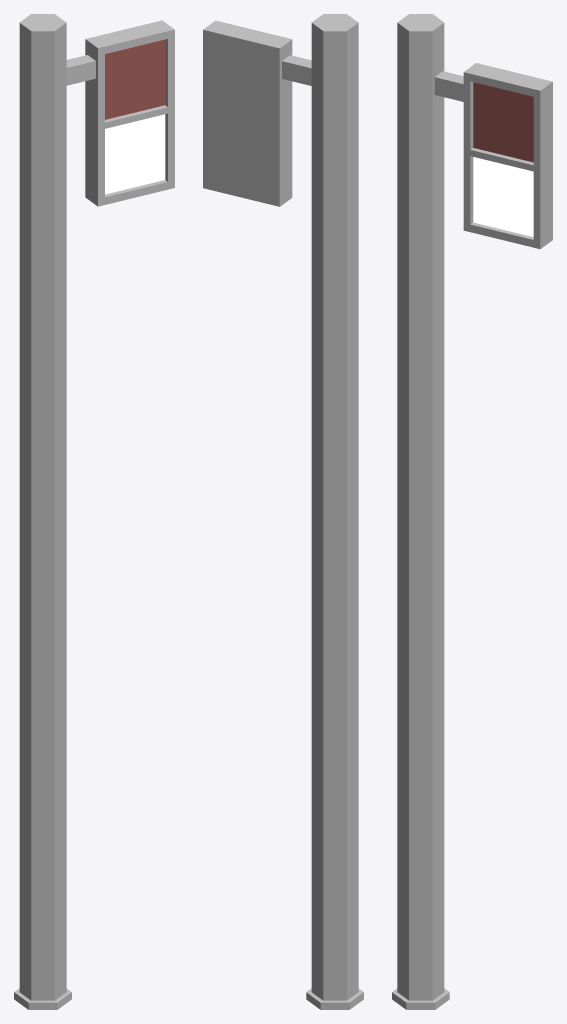
Rendered from testblend.fbx.
3 renders of one model, left to right at view 1: azimuth 30°, elevation 25°; view 2: azimuth 150°, elevation 25°; view 3: azimuth 330°, elevation 25°, orthographic.
Visible parts, largest first — view 1: light_green; view 2: light_green; view 3: light_green.
Part boxes in pixels (x1,y1,x2,y2): light_green: [14, 14, 174, 1009]; light_green: [203, 14, 363, 1009]; light_green: [392, 14, 552, 1009].
Bounding box in the file's own units: 45 × 285 × 15.28.
